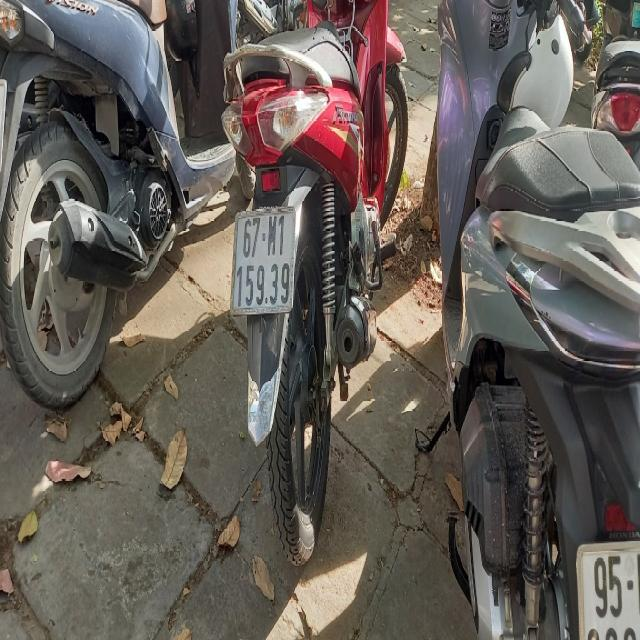1: (236, 265, 242, 309), (278, 214, 284, 256)
3: (269, 263, 279, 305)
5: (245, 263, 253, 306)
6: (244, 218, 250, 260)
7: (252, 217, 261, 260)
9: (281, 263, 290, 305), (256, 264, 264, 304)
M: (268, 214, 276, 257)
